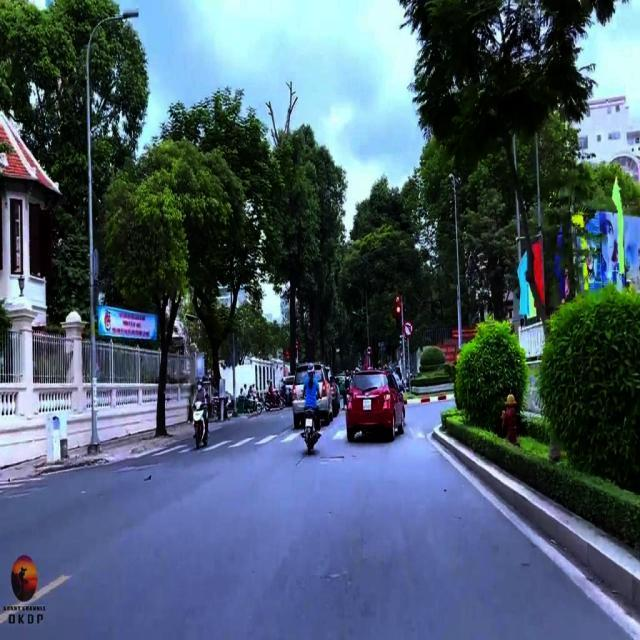106-cam-oto-tai: (368, 346, 372, 354)
123a-cam-re-trai: (403, 319, 413, 336)
